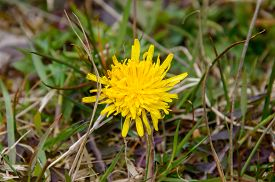dandelion: (97, 56, 176, 134)
